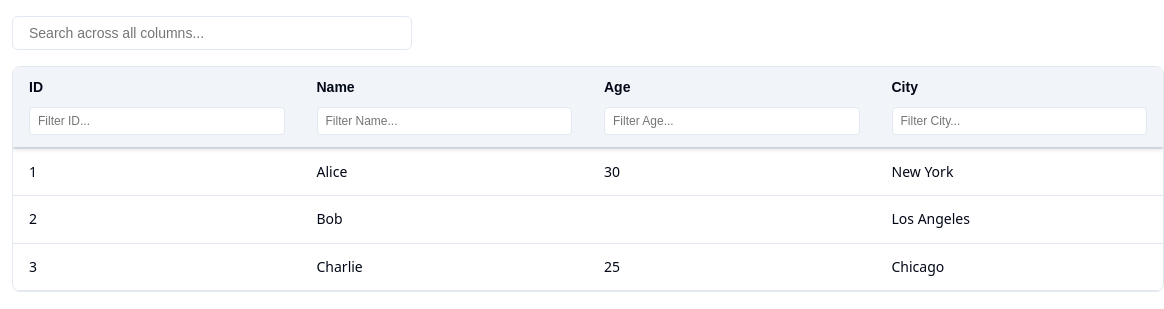
Test: InteractiveTable › Edge Cases › should handle sorting with null values
What coordinates should you click on to do the following:
click the button "Age"
I would click on:
 (732, 87)
Its box is [604,79,860,95].
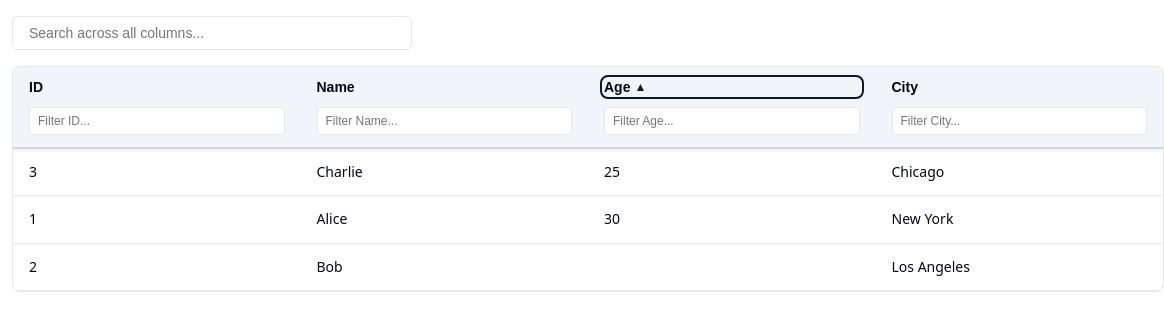
Expected: the text "25" is shown, [588,148,876,196]
Expected: the text "30" is shown, [588,196,876,243]
